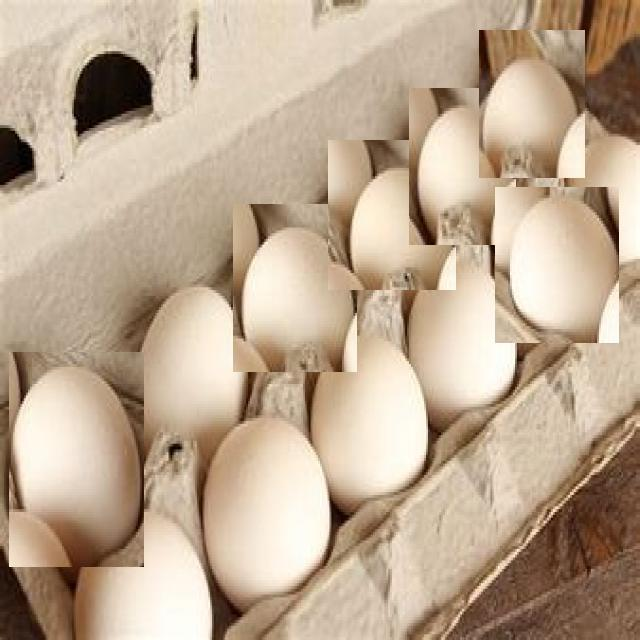Egg: (197, 401, 338, 619), (9, 352, 144, 567), (298, 316, 440, 509), (130, 276, 248, 476), (404, 249, 522, 437), (233, 204, 357, 372), (495, 188, 619, 344), (328, 140, 456, 290), (409, 88, 516, 245), (479, 30, 585, 178)
